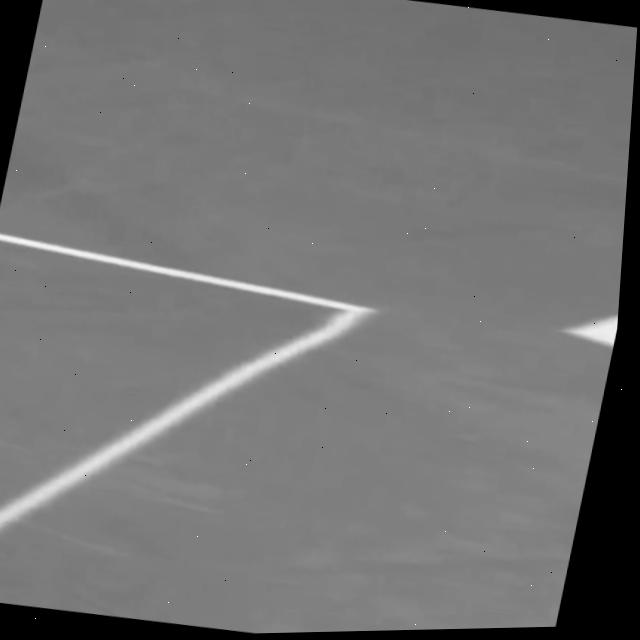center: (561, 316, 618, 348)
